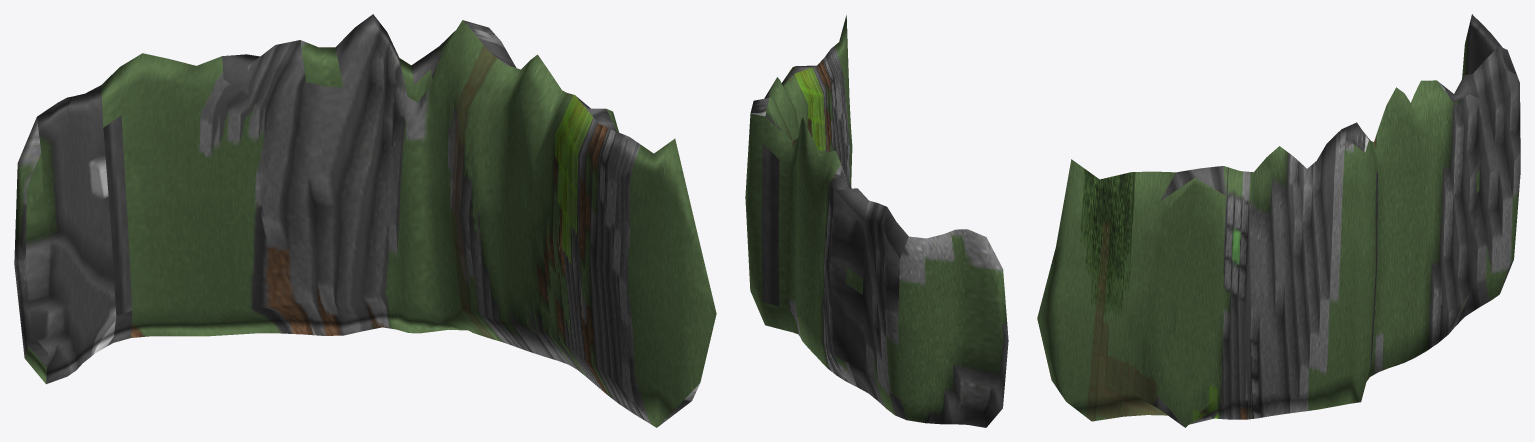
Rendered from wall thing.fbx.
3 renders of one model, left to right at view 1: azimuth 30°, elevation 25°; view 2: azimuth 150°, elevation 25°; view 3: azimuth 270°, elevation 25°, orthographic. The views are drawn at different scales.
Parts seen in each view (by area): view 1: pCube2; view 2: pCube2; view 3: pCube2.
Part boxes in pixels (x1,y1,x2,y2): pCube2: (14,14,716,427); pCube2: (745,15,1008,427); pCube2: (1037,14,1520,427).
Size of the model in its own units: 96.43 by 65.07 by 97.17.
